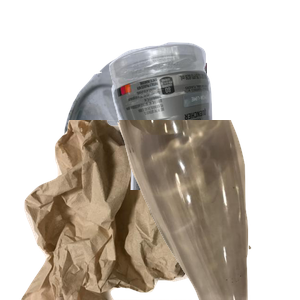glass: (115, 120, 300, 300)
metal: (60, 44, 300, 224)
plastic: (106, 40, 300, 220)
trash: (19, 120, 249, 300)
